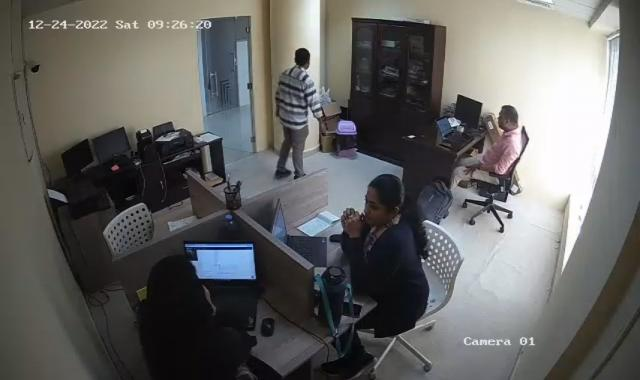no_hairnet: (364, 174, 402, 230), (496, 105, 520, 132), (293, 48, 312, 70)
